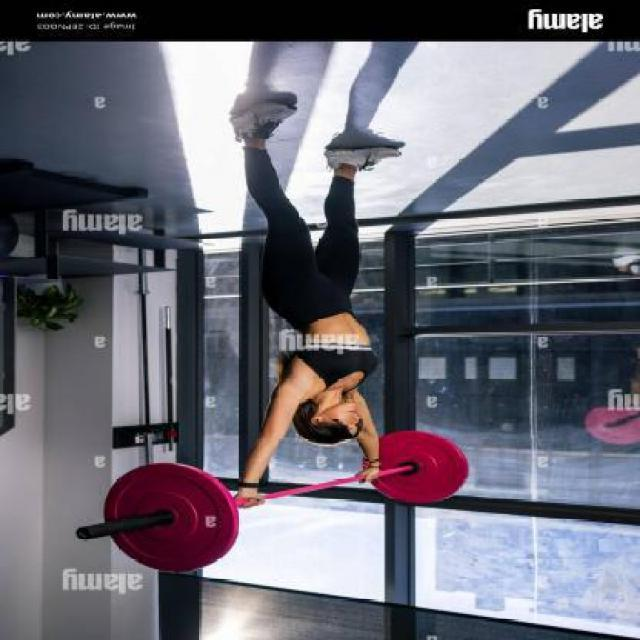Barbell: (70, 517, 108, 551)
